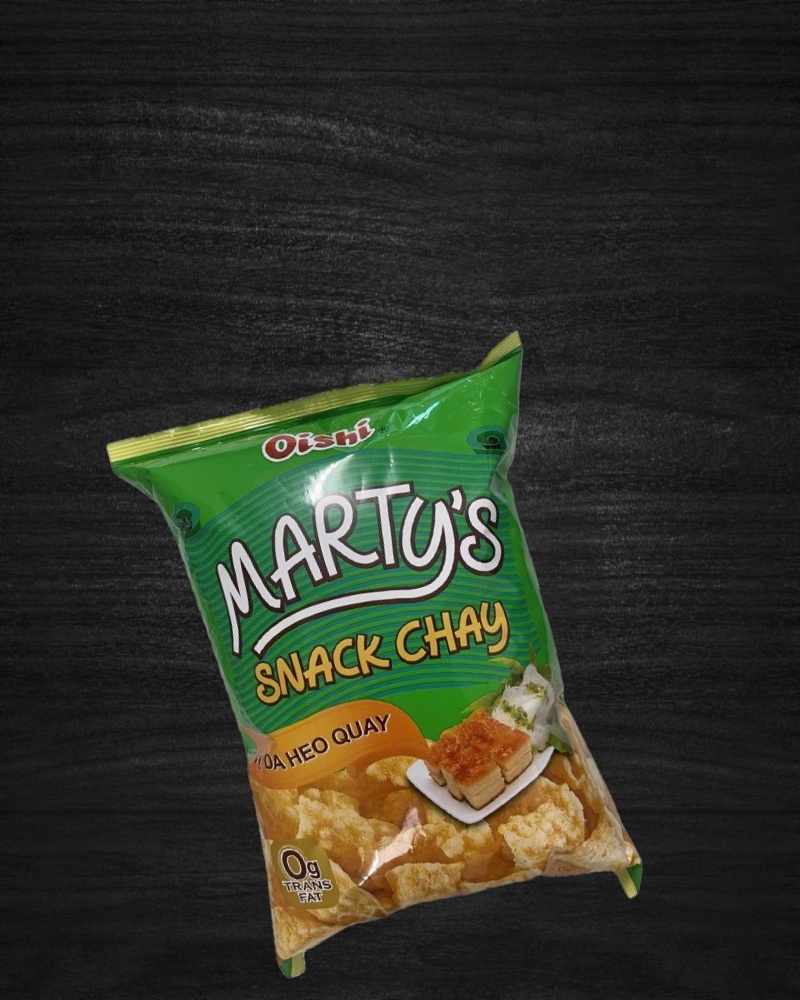Snack chay: (105, 329, 669, 1000)
